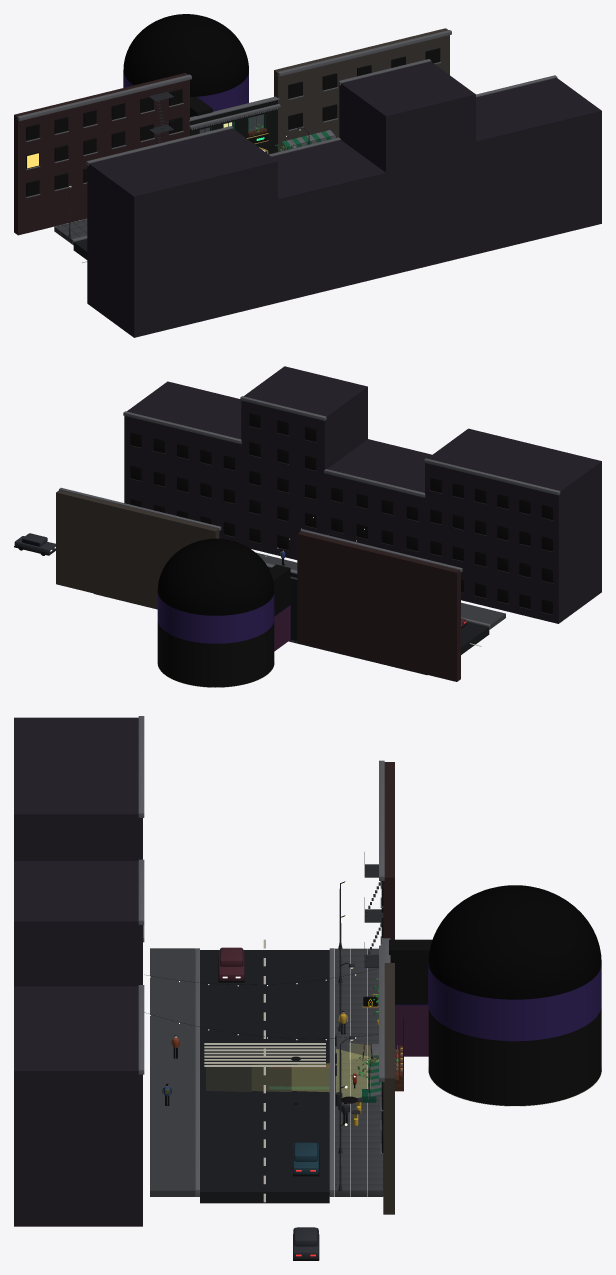
Rendered from shop.glb.
3 views of the same model, one above another, from view 1: azimuth 30°, elevation 25°; view 2: azimuth 150°, elevation 25°; view 3: azimuth 270°, elevation 25° (orthographic). The views are drawn at different scales.
Parts seen in each view (by area): view 1: opposite, neighbour_left, neighbour_right, dome_outer, facade_upper, rotunda_wall, street; view 2: opposite, neighbour_left, neighbour_right, rotunda_wall, dome_outer, street, passage, car_2; view 3: opposite, street, rotunda_wall, dome_outer, neighbour_right, passage, neighbour_left, crossing, light_pools, street_furniture, car_1, car_0 (+1 smaller).
Part boxes in pixels (box(x1,y1,x2,y2)): opposite: box(86, 59, 601, 337); neighbour_left: box(14, 73, 191, 235); neighbour_right: box(274, 28, 451, 151); dome_outer: box(123, 14, 248, 96); facade_upper: box(189, 96, 280, 137); rotunda_wall: box(123, 71, 248, 111); street: box(54, 219, 87, 263); opposite: box(123, 366, 601, 623); neighbour_left: box(297, 529, 462, 681); neighbour_right: box(56, 487, 221, 608); rotunda_wall: box(157, 593, 274, 687); dome_outer: box(157, 538, 274, 615); street: box(93, 552, 505, 675); passage: box(269, 564, 290, 651); car_2: box(14, 533, 55, 555); opposite: box(14, 716, 144, 1226); street: box(150, 939, 383, 1203); rotunda_wall: box(428, 963, 601, 1105); dome_outer: box(428, 885, 601, 999); neighbour_right: box(351, 961, 394, 1214); passage: box(389, 939, 432, 1056); neighbour_left: box(364, 760, 394, 967); crossing: box(204, 1043, 325, 1066); light_pools: box(269, 1049, 378, 1097); street_furniture: box(335, 962, 378, 1110); car_1: box(218, 947, 244, 982); car_0: box(293, 1142, 319, 1176).
Bounding box in the file's own units: 58.18 × 18.1 × 41.07.
